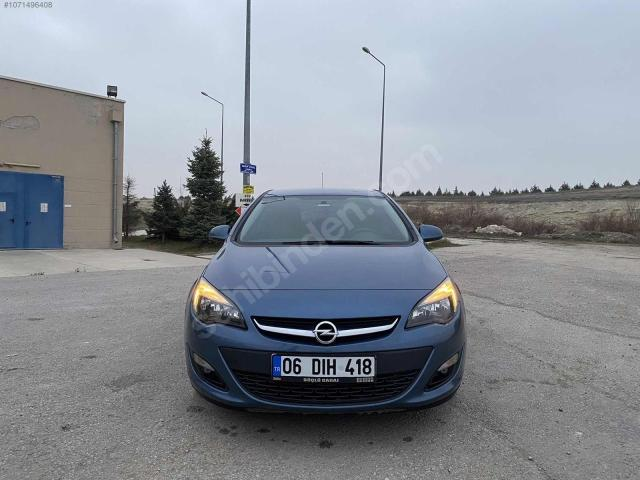plaka: (279, 356, 375, 382)
